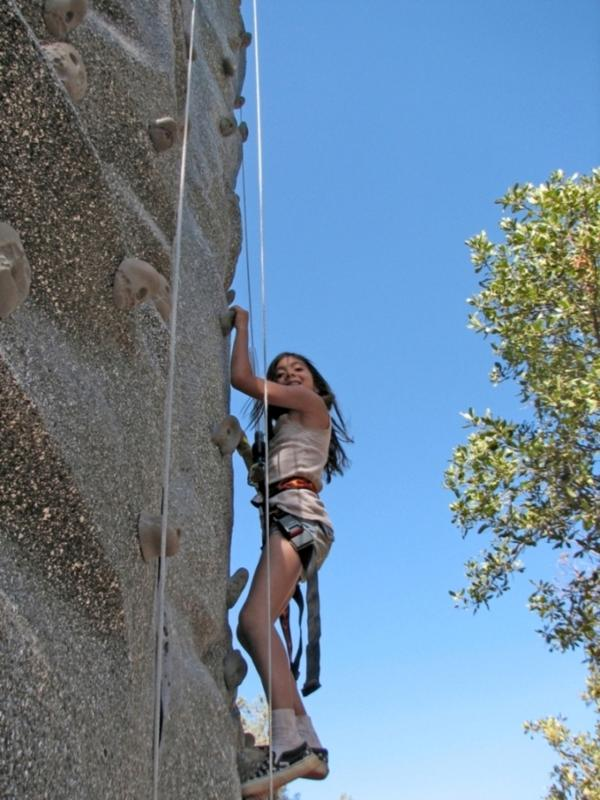person: (228, 303, 351, 792)
